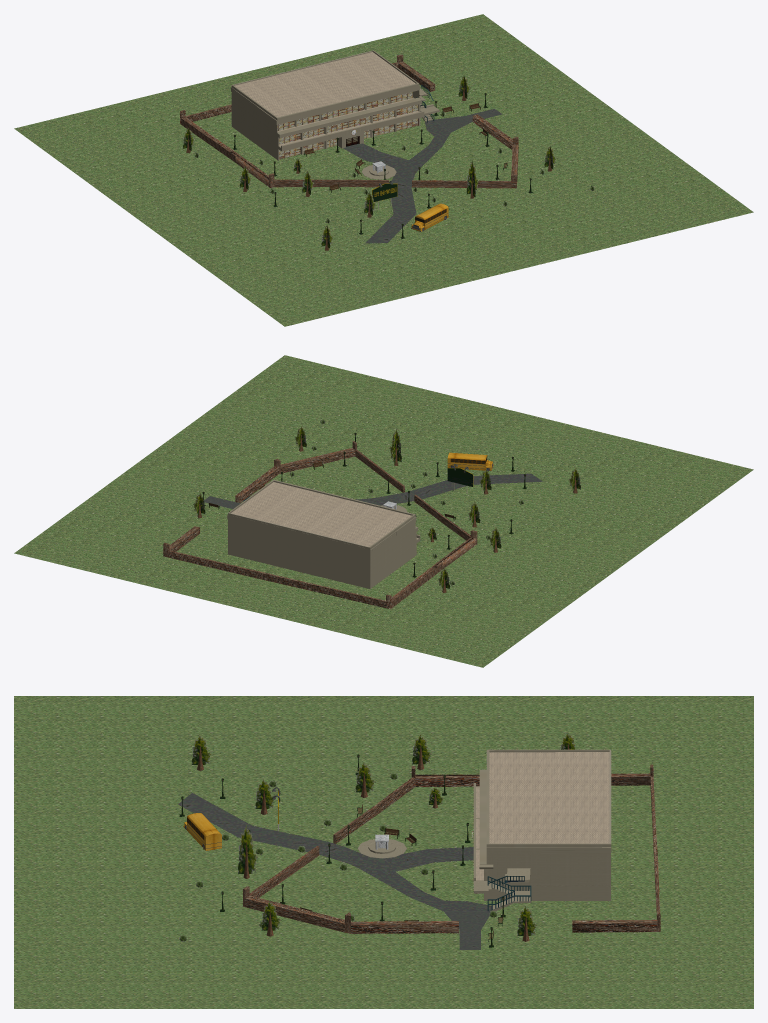
File: EscuelaV2.fbx
The picture shows the model from 3 angles, top to bottom: view 1: azimuth 30°, elevation 25°; view 2: azimuth 150°, elevation 25°; view 3: azimuth 270°, elevation 25°; orthographic projection. The views are drawn at different scales.
Visible parts, largest first — view 1: planta central, Base escuela, Barrera Escuela, Camino, Camion; view 2: planta central, Base escuela, Barrera Escuela, Camino, Camion; view 3: planta central, Base escuela, Barrera Escuela, Camino, escaleras, Camion, Arboles1.007.
Boxes of the visible parts, left/top/right/bottom form: planta central: left=14, top=14, right=753, bottom=326; Base escuela: left=231, top=50, right=424, bottom=160; Barrera Escuela: left=180, top=54, right=518, bottom=188; Camino: left=343, top=108, right=502, bottom=243; Camion: left=411, top=203, right=448, bottom=231; planta central: left=14, top=355, right=753, bottom=667; Base escuela: left=227, top=479, right=420, bottom=588; Barrera Escuela: left=163, top=441, right=477, bottom=609; Camino: left=204, top=473, right=542, bottom=509; Camion: left=447, top=452, right=493, bottom=471; planta central: left=14, top=696, right=753, bottom=1008; Base escuela: left=473, top=749, right=611, bottom=900; Barrera Escuela: left=243, top=764, right=660, bottom=933; Camino: left=178, top=793, right=491, bottom=949; escaleras: left=473, top=864, right=531, bottom=911; Camion: left=183, top=813, right=221, bottom=850; Arboles1.007: left=237, top=825, right=257, bottom=878.
Size of the model in its own units: 7852 by 707 by 7852.
